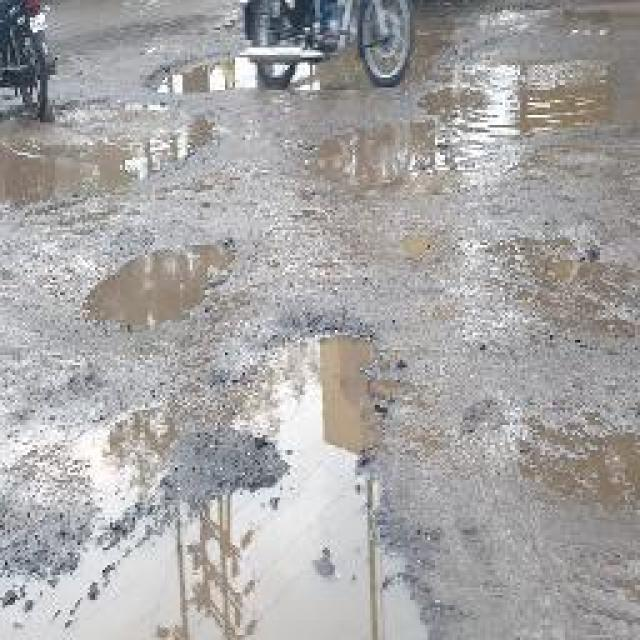stagnation: (0, 299, 450, 638), (270, 37, 635, 232), (62, 234, 268, 341)
